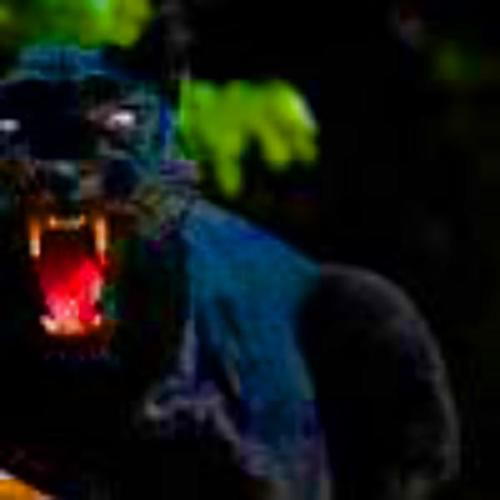panther-endangered: (0, 18, 463, 499)
